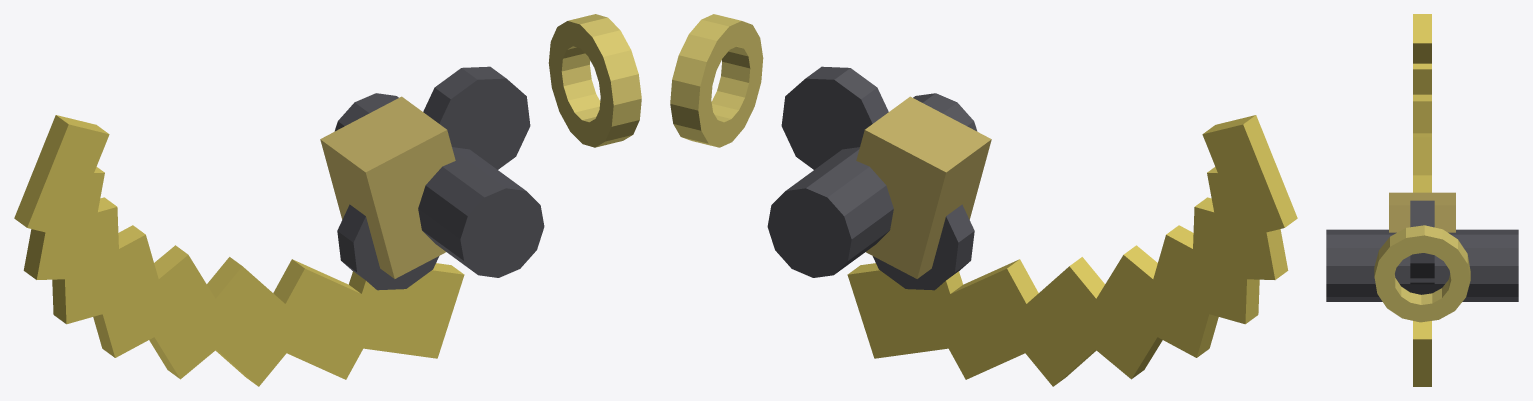
File: gunes_karambit.glb
3 views of the same model, side by side, from view 1: azimuth 30°, elevation 25°; view 2: azimuth 150°, elevation 25°; view 3: azimuth 270°, elevation 25° (orthographic). The views are drawn at different scales.
Visible parts, largest first — view 1: geometry_0; view 2: geometry_0; view 3: geometry_0.
Boxes of the visible parts, x1,y1,x2,y2 form: geometry_0: (14, 14, 641, 386); geometry_0: (670, 14, 1297, 386); geometry_0: (1326, 14, 1518, 386).
Size of the model in its own units: 0.2092 by 0.1101 by 0.08.
